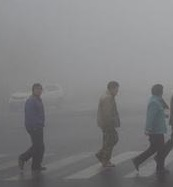person: (132, 83, 170, 173), (18, 82, 48, 171), (95, 80, 122, 167)
